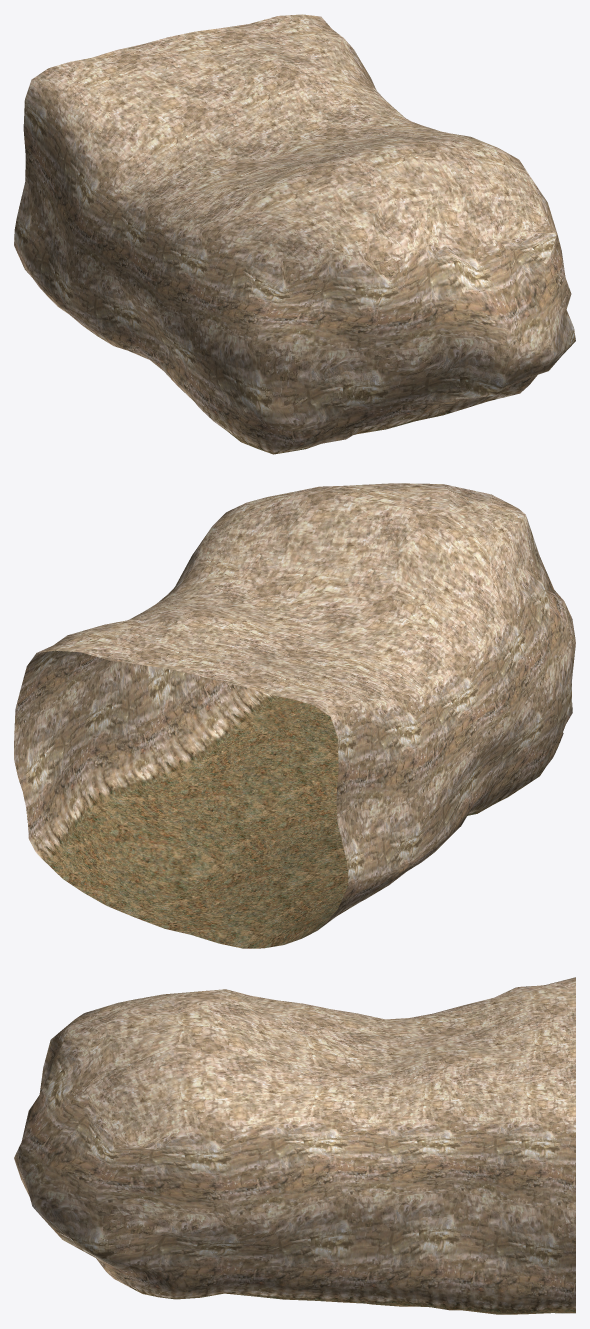
File: thm_all_cave_s01_r11_mesh_r11.fbx
3 views of the same model, one above another, from view 1: azimuth 30°, elevation 25°; view 2: azimuth 150°, elevation 25°; view 3: azimuth 270°, elevation 25° (orthographic). The views are drawn at different scales.
Visible parts, largest first — view 1: mesh_node; view 2: mesh_node; view 3: mesh_node.
Boxes of the visible parts, bbox=[...] form: mesh_node: bbox=[14, 14, 575, 454]; mesh_node: bbox=[14, 483, 575, 948]; mesh_node: bbox=[14, 977, 575, 1314].
Bounding box in the file's own units: 34.13 × 27 × 50.77.
